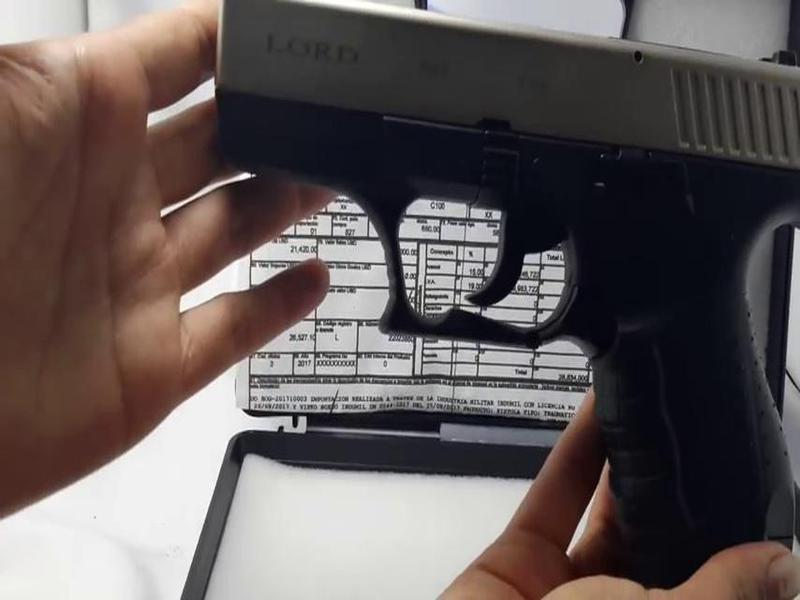Pistola: (186, 4, 795, 551)
